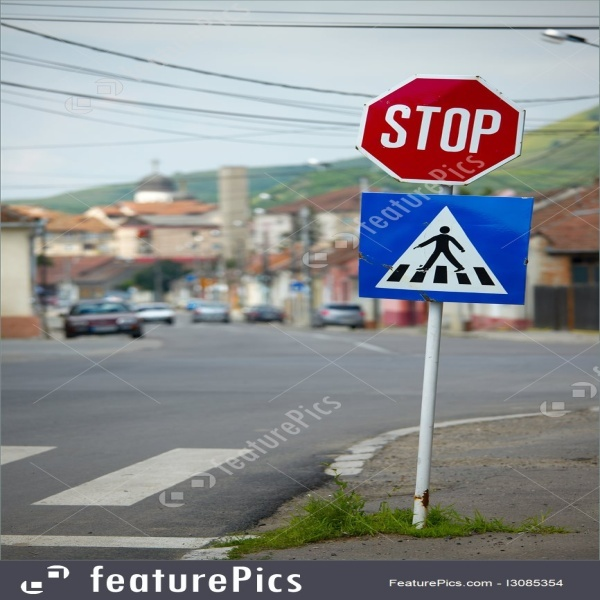stop: (428, 173, 483, 254)
